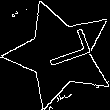L_W: (30, 31, 90, 78)
